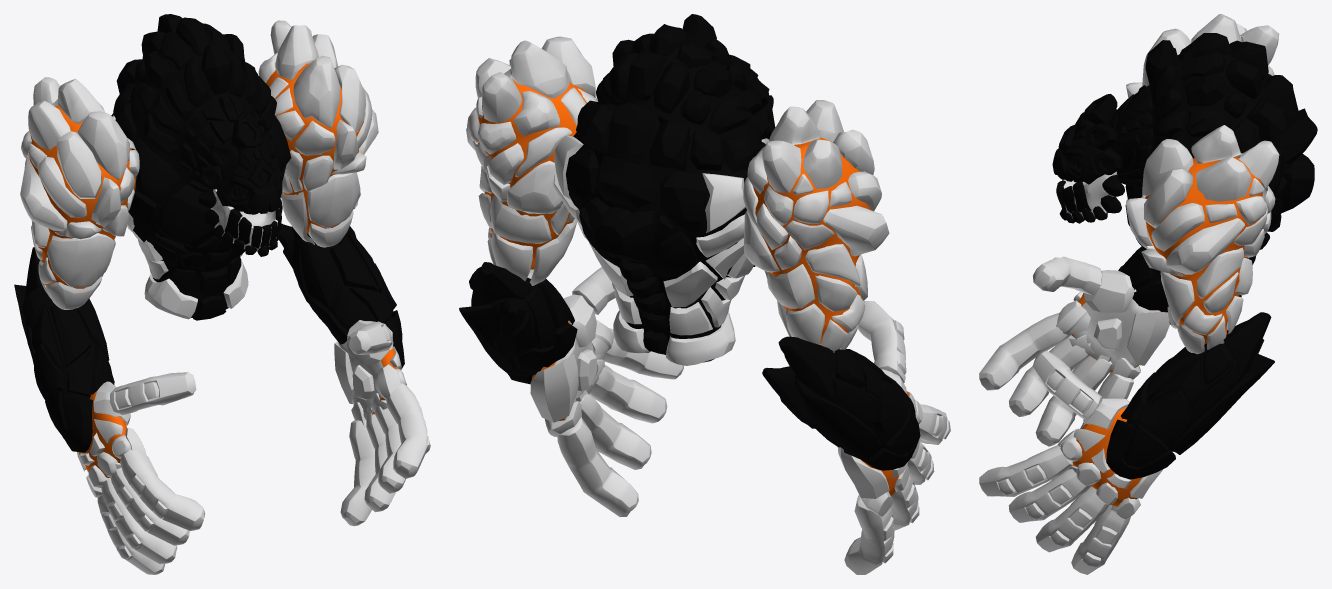
The model's file is Lava Golem Retopo.fbx.
3 renders of one model, left to right at view 1: azimuth 30°, elevation 25°; view 2: azimuth 150°, elevation 25°; view 3: azimuth 270°, elevation 25°, orthographic. The views are drawn at different scales.
Visible parts, largest first — view 1: LavaGoilemRetopo; view 2: LavaGoilemRetopo; view 3: LavaGoilemRetopo.
Boxes of the visible parts, left/top/right/bottom form: LavaGoilemRetopo: left=14, top=14, right=430, bottom=574; LavaGoilemRetopo: left=459, top=14, right=950, bottom=574; LavaGoilemRetopo: left=979, top=14, right=1317, bottom=574.
Bounding box in the file's own units: 1384 × 1820 × 1142.
